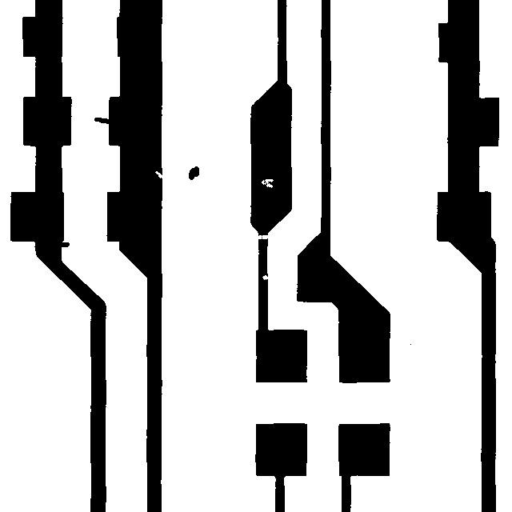copper: (181, 158, 206, 187)
mousebite: (147, 163, 172, 186), (254, 267, 276, 287)
open: (245, 227, 280, 246)
pin-hole: (254, 171, 281, 195)
spur: (86, 110, 118, 131), (50, 234, 77, 254)
